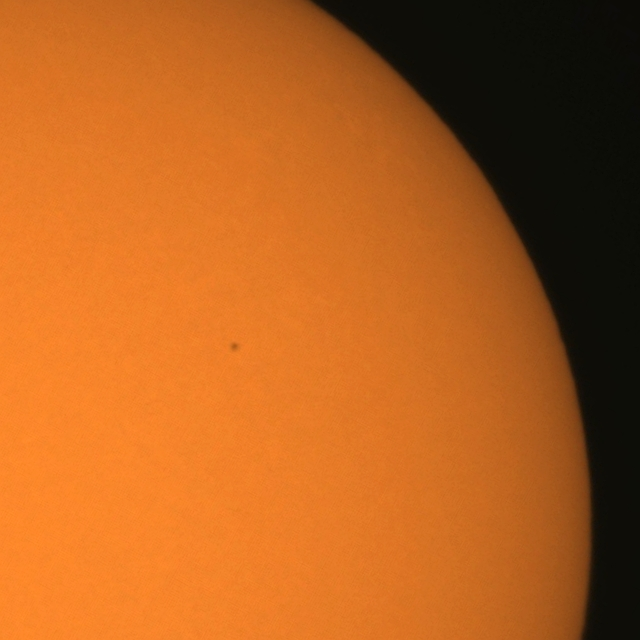sunspot: (228, 341, 241, 354)
